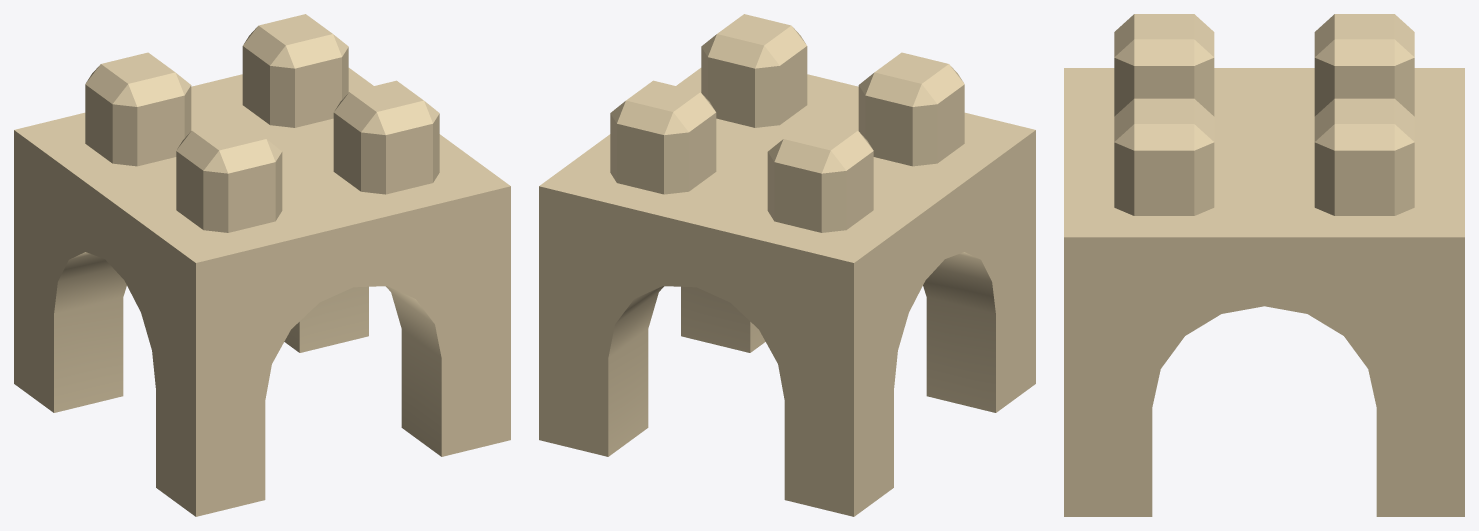
The model's file is wall_bridge.glb.
3 views of the same model, side by side, from view 1: azimuth 30°, elevation 25°; view 2: azimuth 150°, elevation 25°; view 3: azimuth 270°, elevation 25° (orthographic). The views are drawn at different scales.
Visible parts, largest first — view 1: wall; view 2: wall; view 3: wall.
Boxes of the visible parts, x1,y1,x2,y2 form: wall: (14,14,510,516); wall: (539,14,1035,516); wall: (1064,14,1464,516).
Size of the model in its own units: 1 by 1 by 1.
